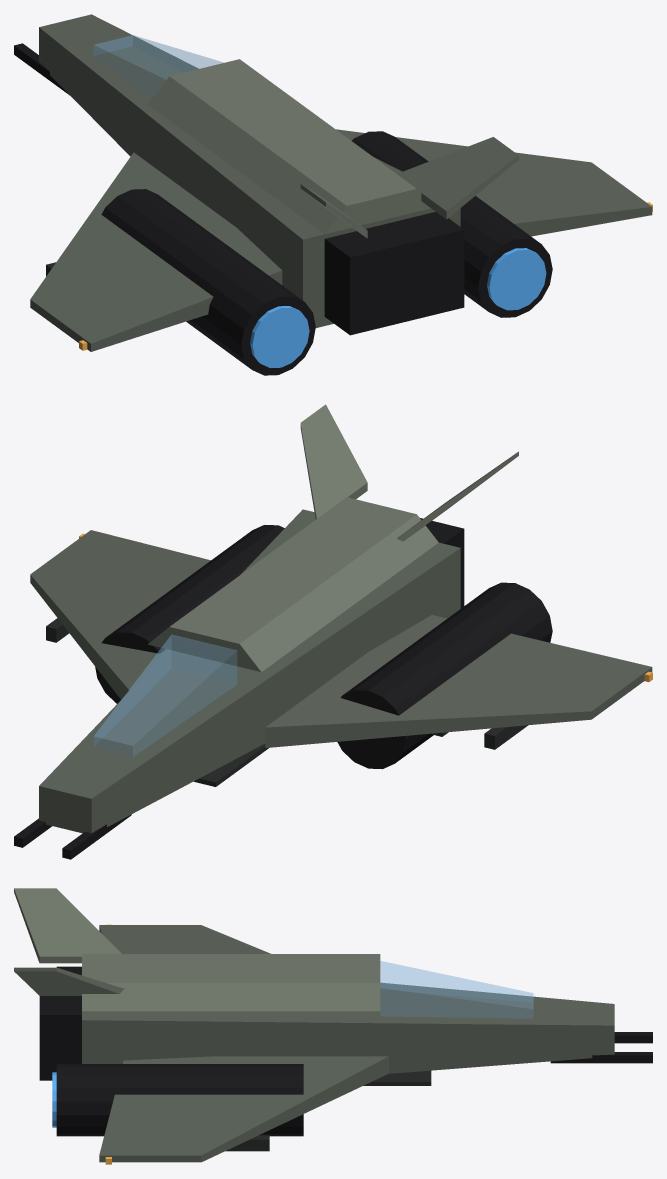
The model's file is ship_XS_BOMBER.obj.
The picture shows the model from 3 angles, top to bottom: view 1: azimuth 30°, elevation 25°; view 2: azimuth 150°, elevation 25°; view 3: azimuth 270°, elevation 25°; orthographic projection. The views are drawn at different scales.
Visible parts, largest first — view 1: XS_BOMBER_Hull-col, XS_BOMBER_Engines, XS_BOMBER_Armor, XS_BOMBER_EngineGlow, XS_BOMBER_Glass-col; view 2: XS_BOMBER_Hull-col, XS_BOMBER_Armor, XS_BOMBER_Engines, XS_BOMBER_Glass-col, XS_BOMBER_Trim, XS_BOMBER_BombBayDoors; view 3: XS_BOMBER_Hull-col, XS_BOMBER_Armor, XS_BOMBER_Engines, XS_BOMBER_Glass-col, XS_BOMBER_BombBayDoors, XS_BOMBER_Trim.
Boxes of the visible parts, x1,y1,x2,y2 form: XS_BOMBER_Hull-col: [30, 14, 652, 351]; XS_BOMBER_Engines: [14, 43, 552, 375]; XS_BOMBER_Armor: [147, 59, 518, 238]; XS_BOMBER_EngineGlow: [250, 248, 546, 367]; XS_BOMBER_Glass-col: [94, 35, 223, 99]; XS_BOMBER_Hull-col: [30, 509, 652, 833]; XS_BOMBER_Armor: [148, 404, 518, 672]; XS_BOMBER_Engines: [14, 518, 552, 859]; XS_BOMBER_Glass-col: [94, 634, 236, 756]; XS_BOMBER_Trim: [46, 618, 527, 749]; XS_BOMBER_BombBayDoors: [194, 744, 269, 786]; XS_BOMBER_Hull-col: [82, 925, 614, 1162]; XS_BOMBER_Armor: [14, 888, 380, 1011]; XS_BOMBER_Engines: [39, 966, 652, 1136]; XS_BOMBER_Glass-col: [380, 961, 533, 1018]; XS_BOMBER_BombBayDoors: [363, 1070, 431, 1085]; XS_BOMBER_Trim: [225, 1135, 269, 1151].
Size of the model in its own units: 13 by 4.05 by 15.
